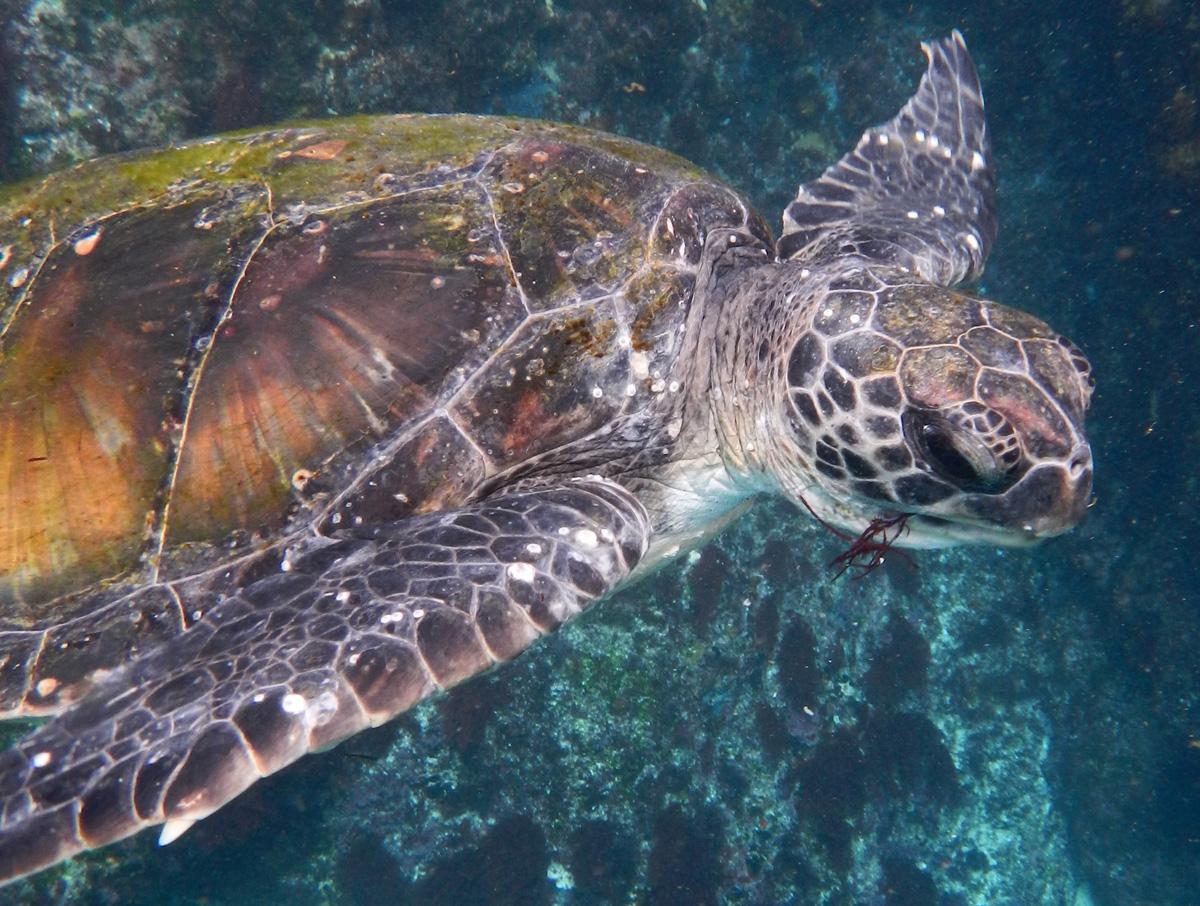turtle: (739, 260, 1116, 568)
